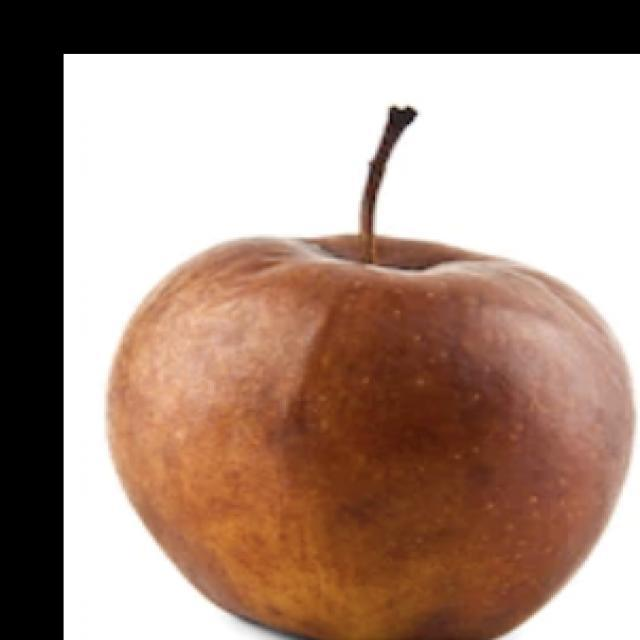Rotten: (135, 220, 640, 640)
